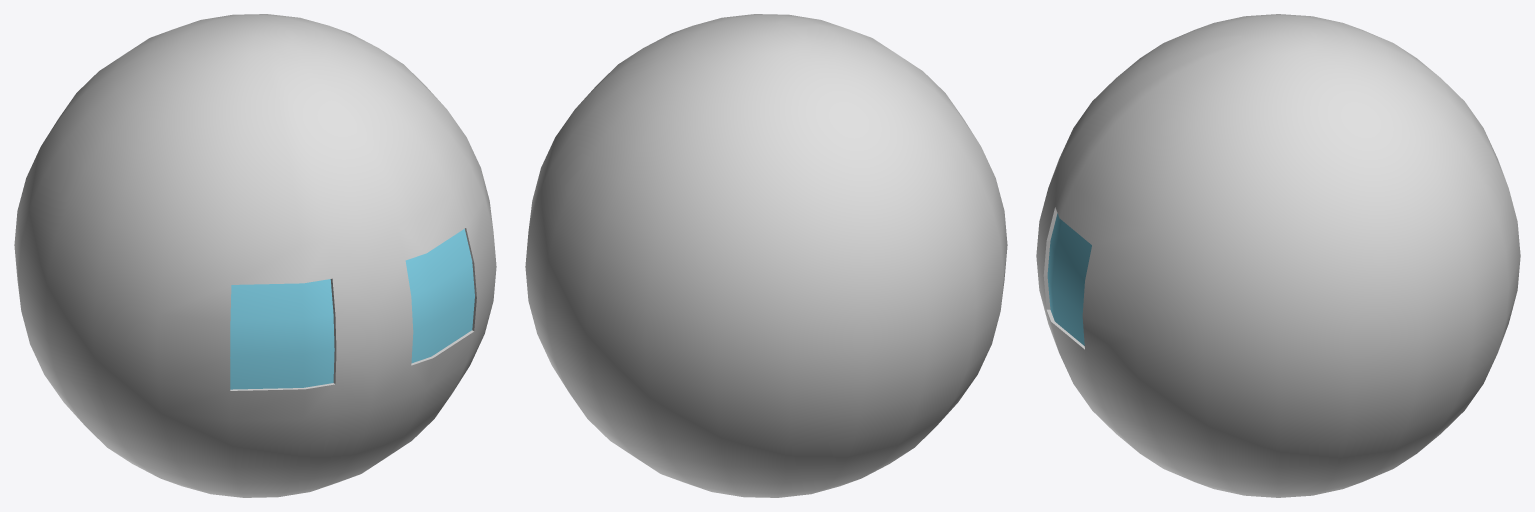
3 renders of one model, left to right at view 1: azimuth 30°, elevation 25°; view 2: azimuth 150°, elevation 25°; view 3: azimuth 270°, elevation 25°, orthographic.
Visible parts, largest first — view 1: pSphere1; view 2: pSphere1; view 3: pSphere1.
Boxes of the visible parts, bbox=[...] form: pSphere1: bbox=[14, 14, 496, 497]; pSphere1: bbox=[525, 14, 1007, 497]; pSphere1: bbox=[1036, 14, 1520, 497].
Bounding box in the file's own units: 1.6 × 1.6 × 1.6.
